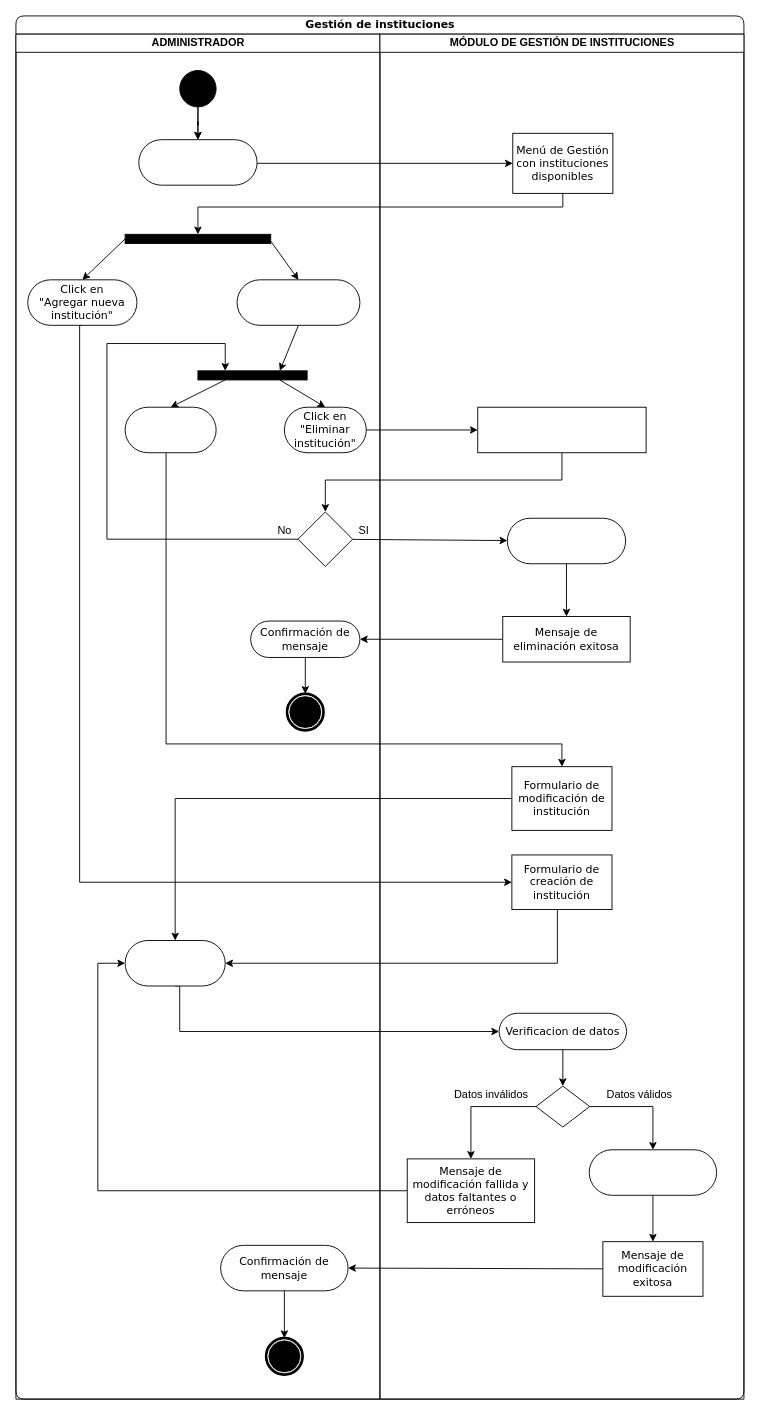
Image size: 760x1415. Some labels were removed from this diagram. Here are the shapes that lost their labels. From the top down, the centre of each, then its label:
the point at 197,162: Click en "Gestión de instituciones"
the point at 298,302: Seleccionar institución de la lista
the point at 170,429: Click en "Modificar institución"
the point at 561,429: Mensaje de confirmación de eliminación
the point at 566,540: Eliminación en base de datos
the point at 174,963: Rellenar campos de datos
the point at 652,1172: Modificación en Base de datos
